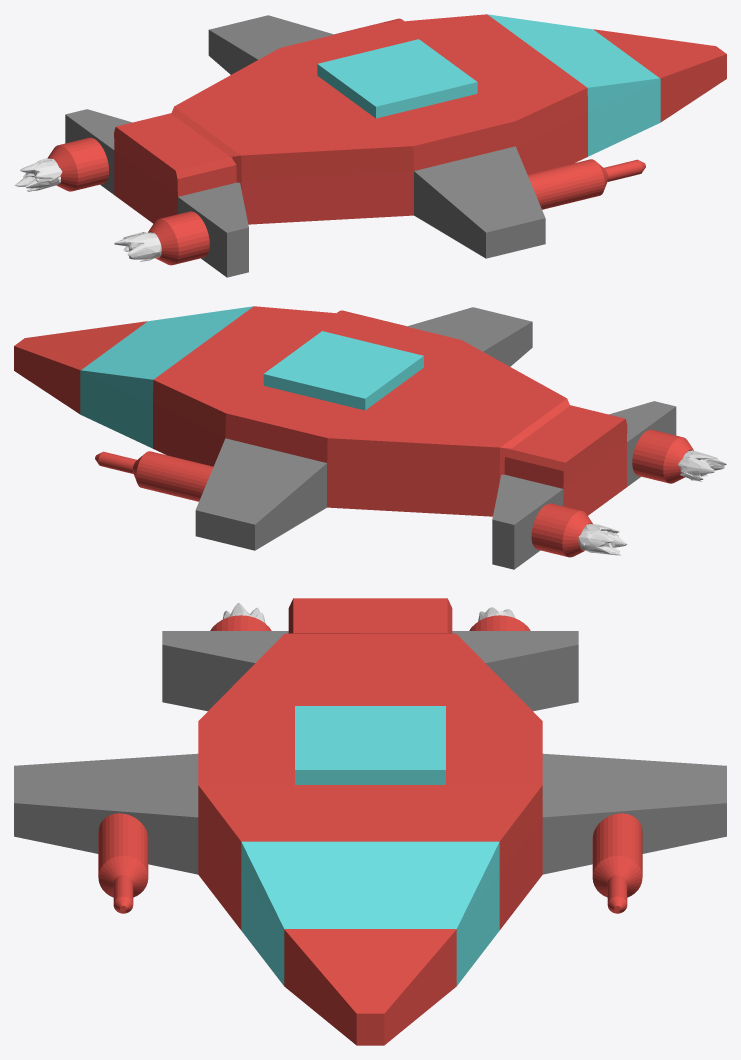
Rendered from Spaceship.fbx.
3 renders of one model, top to bottom at view 1: azimuth 30°, elevation 25°; view 2: azimuth 150°, elevation 25°; view 3: azimuth 270°, elevation 25°, orthographic. The views are drawn at different scales.
Parts seen in each view (by area): view 1: Cube, Cube.001, Cylinder.001, Cylinder, Jet Flame mesh Icosphere, Jet Flame mesh Icosphere.001; view 2: Cube, Cube.001, Cylinder.001, Cylinder, Jet Flame mesh Icosphere, Jet Flame mesh Icosphere.001; view 3: Cube, Cube.001, Cylinder, Cylinder.001.
Boxes of the visible parts, <box> form: Cube: <box>171,14,726,258</box>; Cube.001: <box>65,109,248,277</box>; Cylinder.001: <box>47,137,209,265</box>; Cylinder: <box>334,18,645,209</box>; Jet Flame mesh Icosphere: <box>14,158,62,191</box>; Jet Flame mesh Icosphere.001: <box>114,232,161,261</box>; Cube: <box>14,306,569,550</box>; Cube.001: <box>492,401,676,569</box>; Cylinder.001: <box>531,429,693,557</box>; Cylinder: <box>95,310,406,501</box>; Jet Flame mesh Icosphere: <box>578,524,626,555</box>; Jet Flame mesh Icosphere.001: <box>678,450,726,481</box>; Cube: <box>14,633,726,1045</box>; Cube.001: <box>162,598,578,711</box>; Cylinder: <box>98,813,642,913</box>; Cylinder.001: <box>210,615,530,630</box>.
Bounding box in the file's own units: 1289 × 159 × 945.
